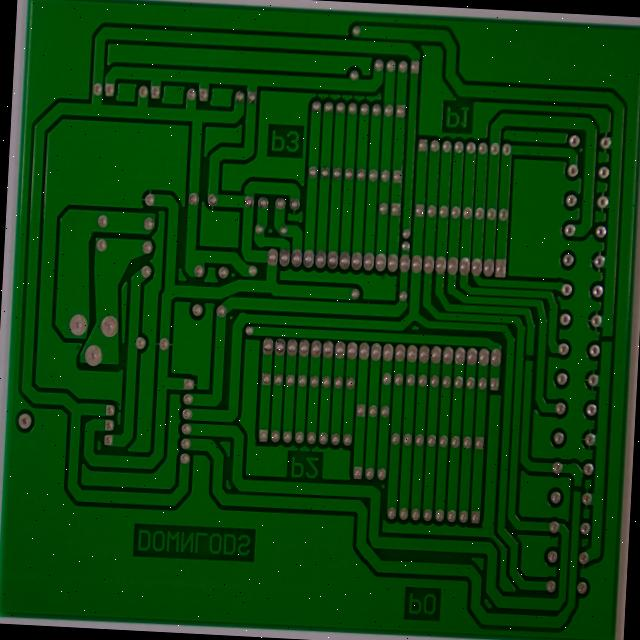open_circuit: (589, 379, 611, 399), (508, 403, 524, 423), (560, 555, 573, 575)
